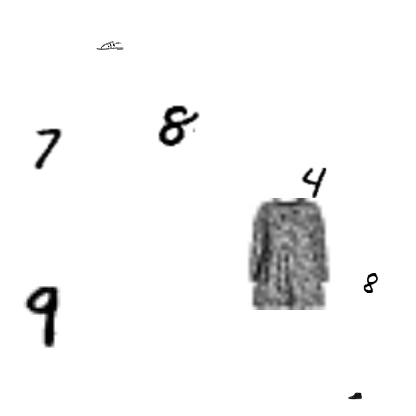4: (293, 159, 335, 201)
7: (20, 117, 76, 173)
8: (147, 96, 203, 152), (356, 269, 384, 297)
9: (3, 269, 87, 353)
Ankle_boot: (348, 389, 362, 403)
Dress: (233, 198, 345, 310)
Sandal: (96, 31, 124, 59)
